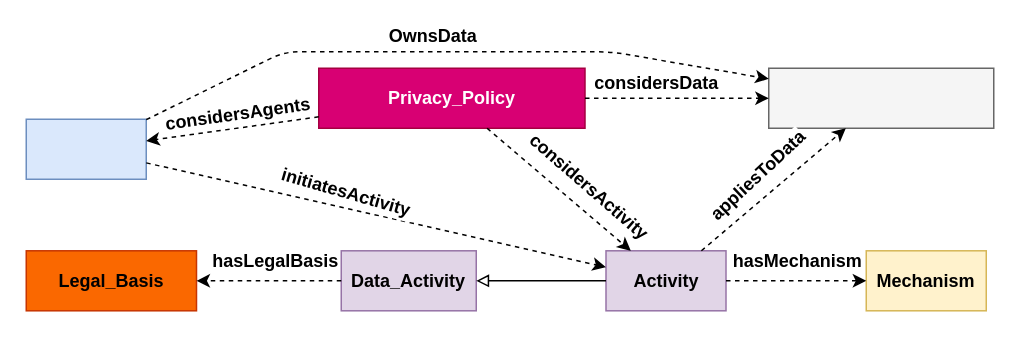
This 1020x338 diagram has some shape labels left out. The shapes that lost their labels are listed below. From the top down, each one's centre as x and y in pixels, then its label:
At pixel 880 97: "Data".
At pixel 85 148: "Agent".
